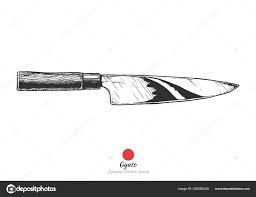Knife: (16, 70, 239, 105)
